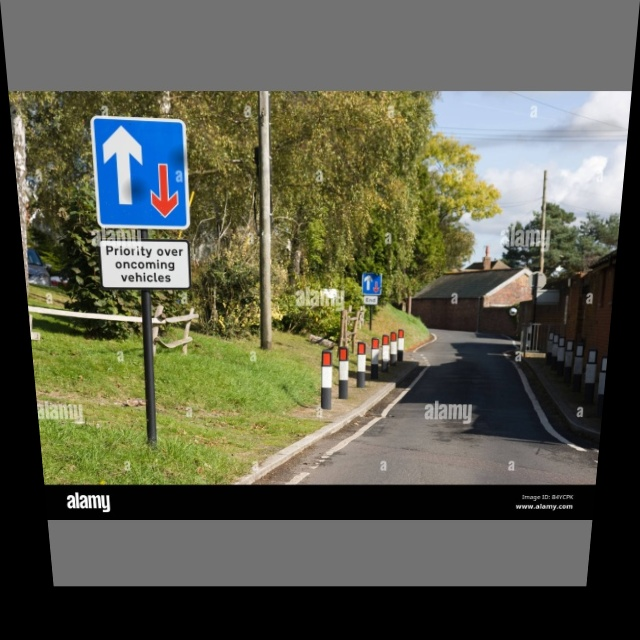Priority_for_Oncoming_Traffic: (93, 118, 190, 228)
